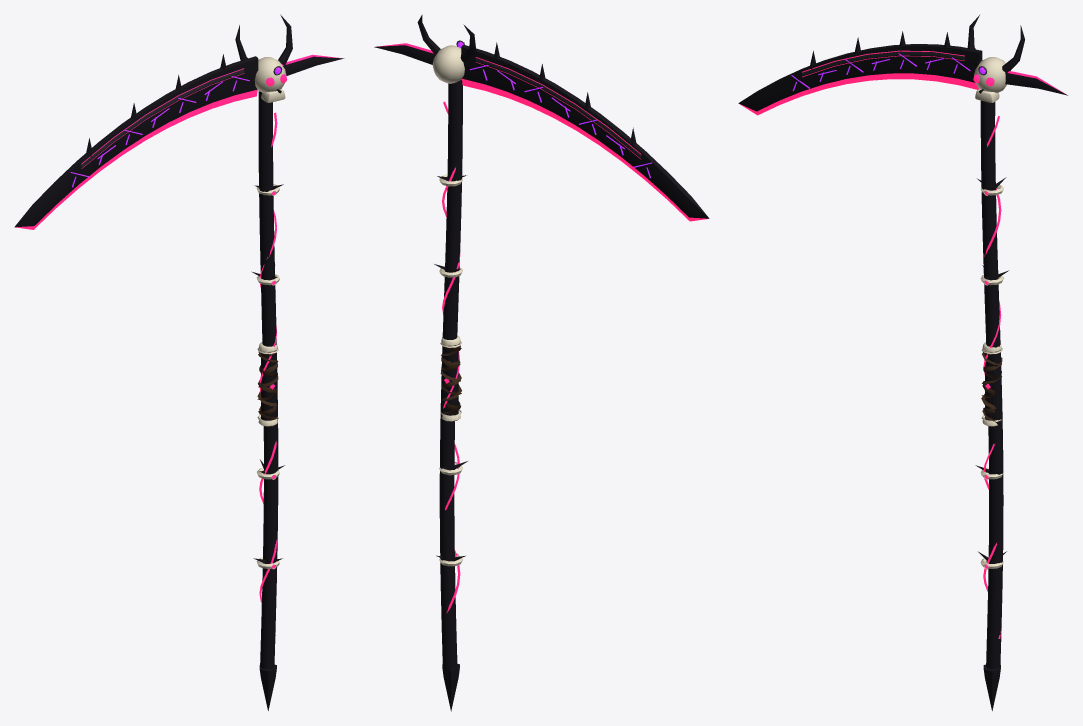
The model's file is abyss_reaper.glb.
3 renders of one model, left to right at view 1: azimuth 30°, elevation 25°; view 2: azimuth 150°, elevation 25°; view 3: azimuth 330°, elevation 25°, orthographic.
Parts seen in each view (by area): view 1: abyss_reaper; view 2: abyss_reaper; view 3: abyss_reaper.
Part boxes in pixels (x1,y1,x2,y2): abyss_reaper: (14, 14, 344, 710); abyss_reaper: (374, 14, 709, 711); abyss_reaper: (738, 15, 1067, 710).
Bounding box in the file's own units: 1.16 × 2.3 × 0.133.
